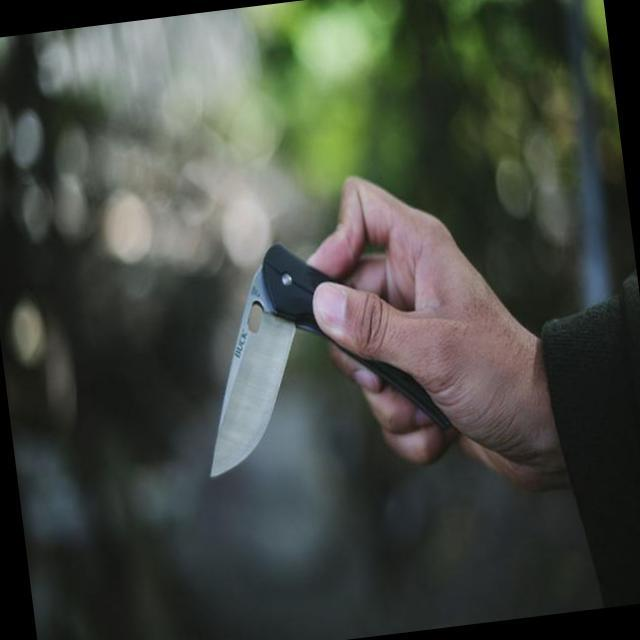Knife: (169, 214, 396, 501)
